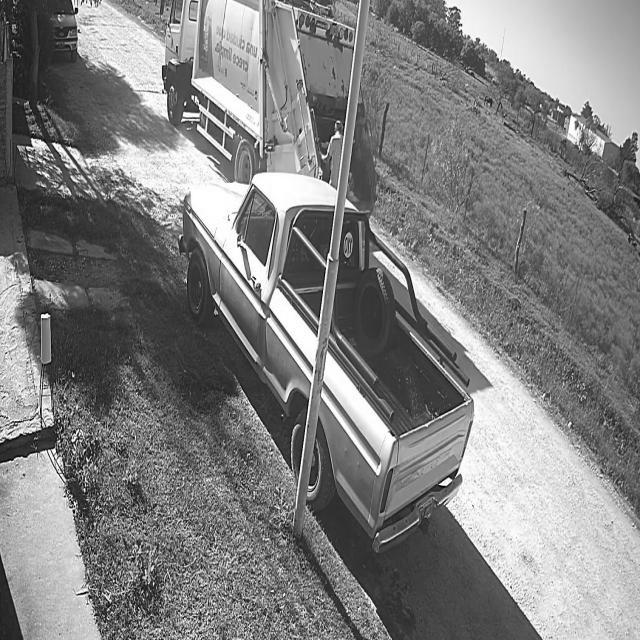Garbage Truck: (160, 0, 355, 189), (346, 100, 378, 214)
